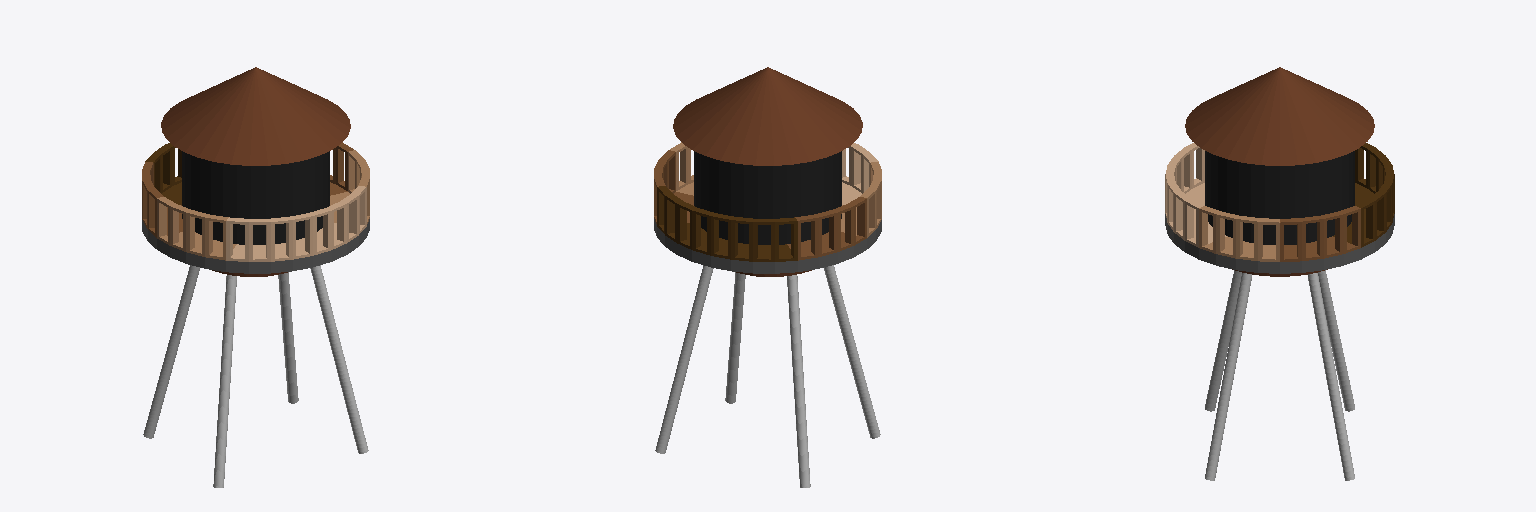
3 views of the same model, side by side, from view 1: azimuth 30°, elevation 25°; view 2: azimuth 150°, elevation 25°; view 3: azimuth 270°, elevation 25° (orthographic).
Visible parts, largest first — view 1: Cylinder; view 2: Cylinder; view 3: Cylinder.
Boxes of the visible parts, box(x1,y1,x2,y2) form: Cylinder: box(142, 67, 369, 487); Cylinder: box(654, 67, 881, 487); Cylinder: box(1165, 67, 1394, 480).
Bounding box in the file's own units: 14.64 × 26.64 × 14.64.
1 materials, 1 textured.